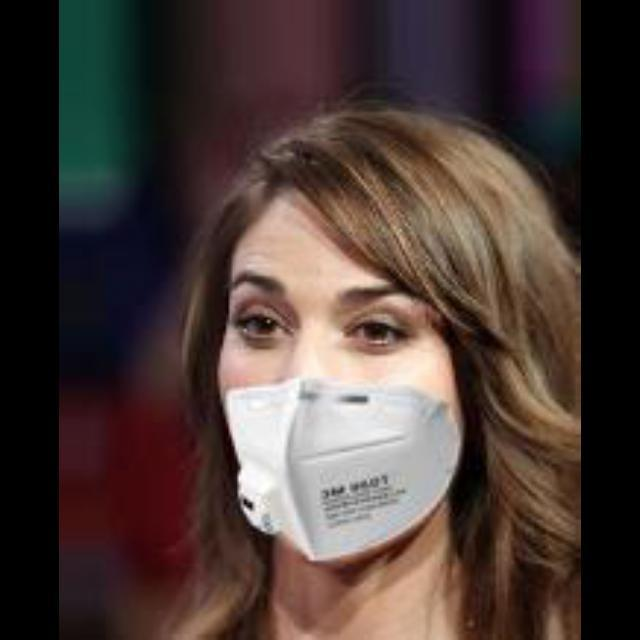suspicion: (164, 185, 568, 590)
